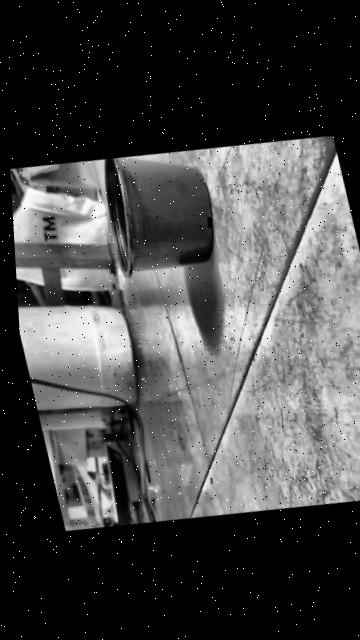pot: (94, 142, 226, 287)
